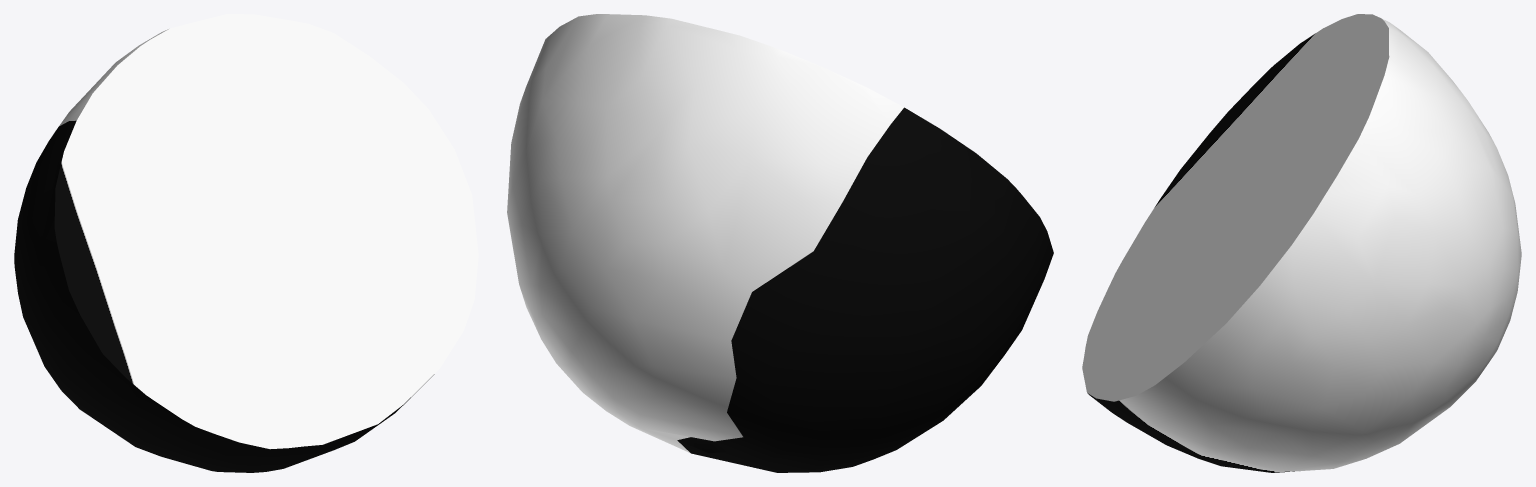
File: ref_watermelonhalf.fbx
The picture shows the model from 3 angles, left to right: view 1: azimuth 30°, elevation 25°; view 2: azimuth 150°, elevation 25°; view 3: azimuth 270°, elevation 25°; orthographic projection. The views are drawn at different scales.
Parts seen in each view (by area): view 1: ref_watermelonhalf; view 2: ref_watermelonhalf; view 3: ref_watermelonhalf.
Boxes of the visible parts, x1,y1,x2,y2 form: ref_watermelonhalf: (14, 14, 478, 472); ref_watermelonhalf: (507, 14, 1053, 472); ref_watermelonhalf: (1082, 14, 1521, 472).
Bounding box in the file's own units: 100 × 91.7 × 87.97.
